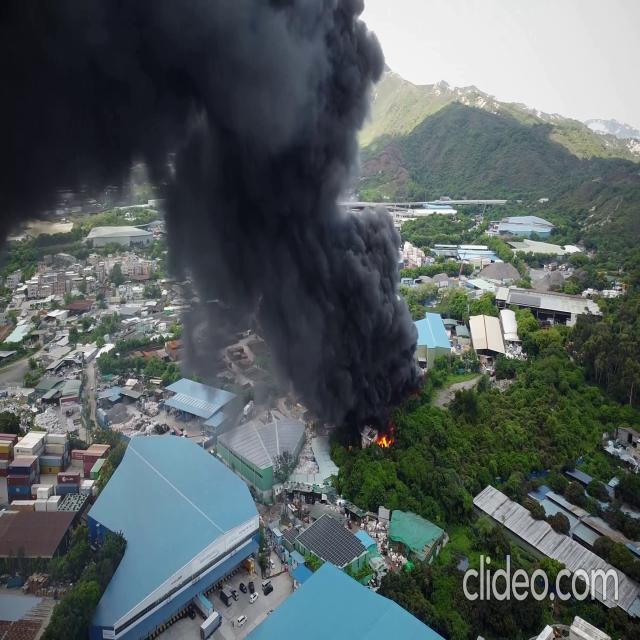Fire: (369, 426, 394, 448)
Smoke: (1, 1, 436, 432)
